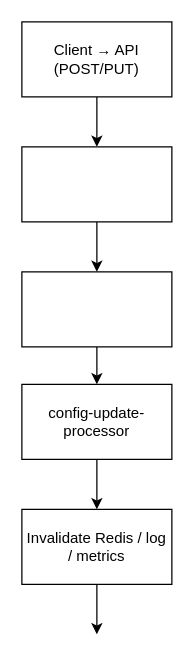
Image size: 194x666. Some labels were removed from this diagram. The box of each missing label's shape, as (x1, y1, x2, y2) in pixels:
Publish Kafka event: (21, 271, 172, 347)
Save to DB: (21, 146, 172, 222)
